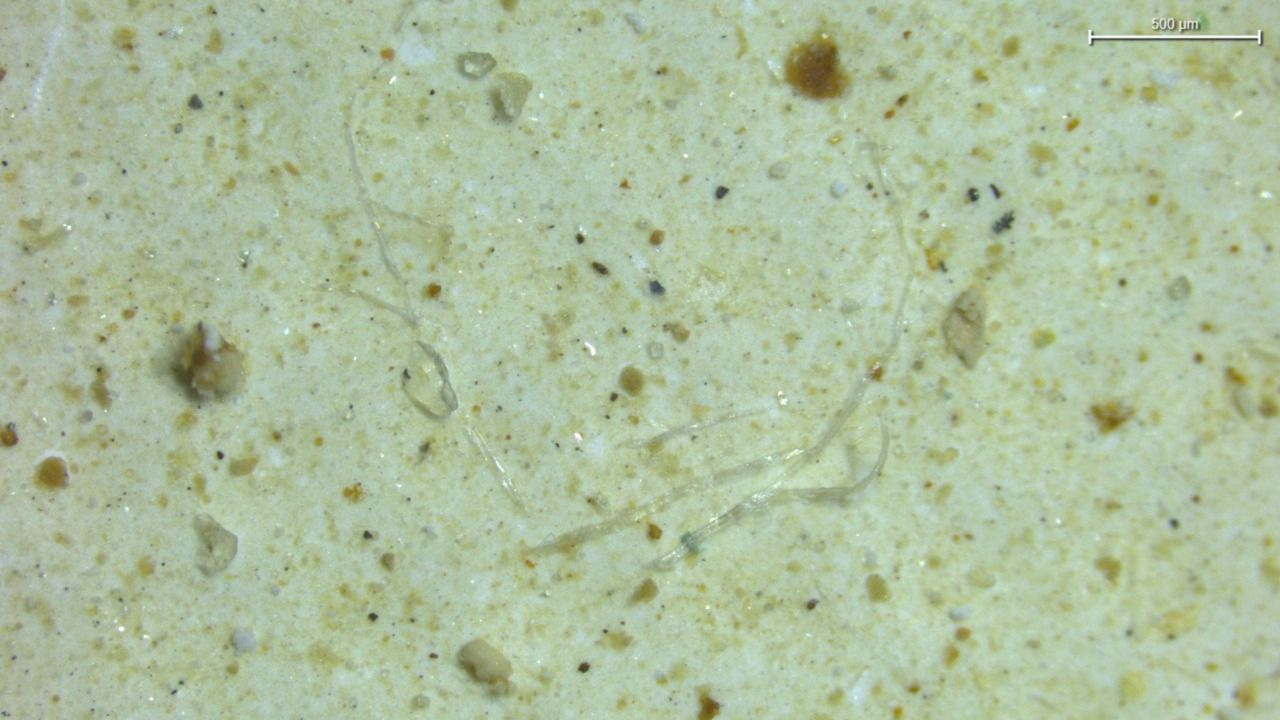microplastic_fragment: (193, 514, 237, 575), (459, 639, 512, 683), (494, 72, 532, 119), (458, 51, 496, 78)
